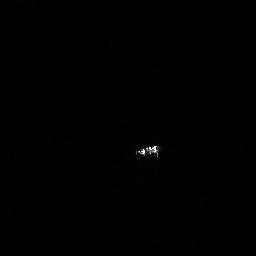ship: (132, 141, 164, 159)
